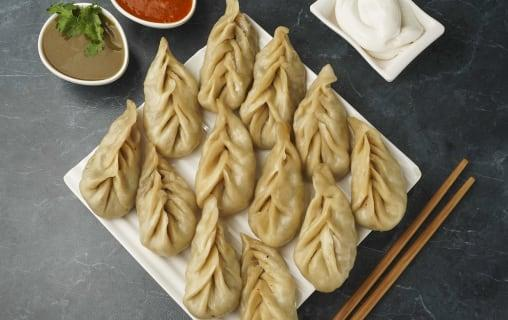momos: (240, 27, 306, 247), (295, 164, 357, 292), (80, 100, 141, 218), (248, 121, 305, 247), (184, 195, 242, 318), (195, 101, 256, 215), (136, 142, 197, 255), (144, 37, 201, 157), (198, 0, 259, 112), (293, 64, 350, 178), (349, 117, 406, 231), (241, 234, 297, 319), (71, 4, 128, 75)
